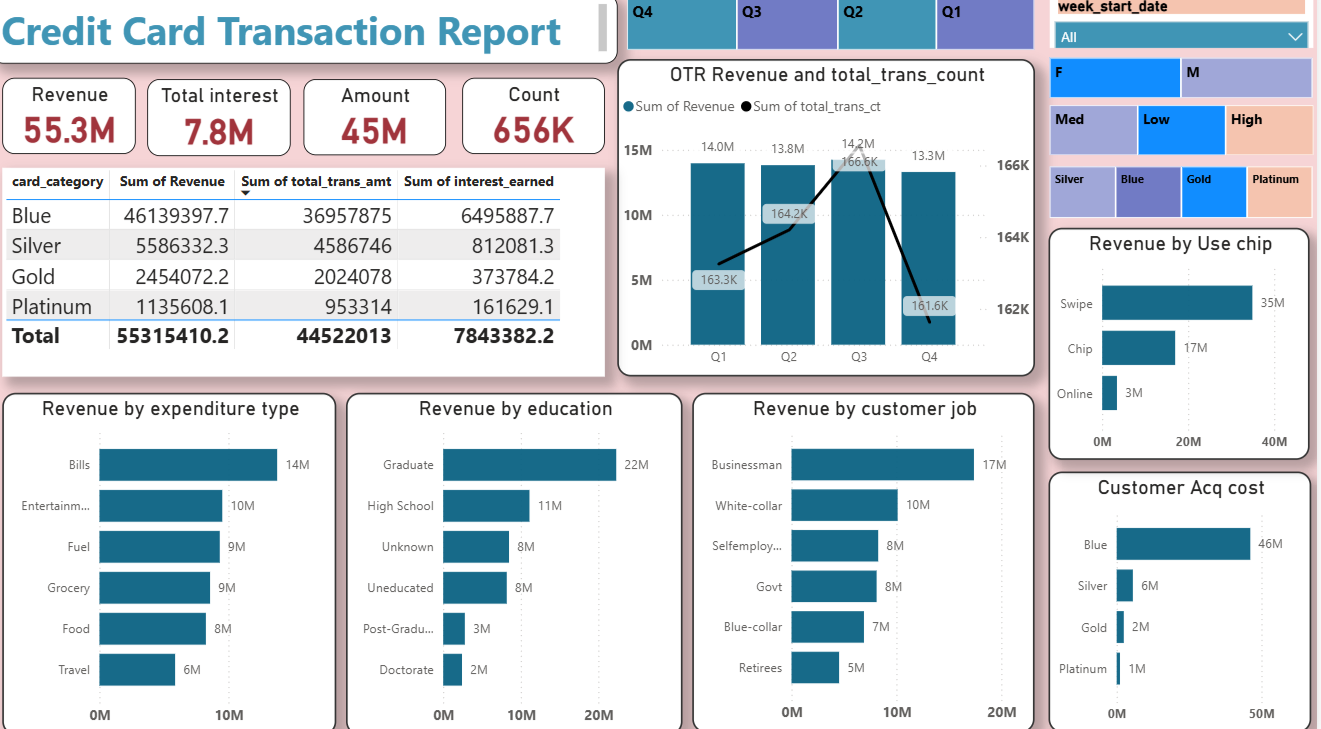

This screenshot's page, from the dashboard's own definition file:
{"tool":"powerbi","page":{"name":"CC_transactions ","canvas":[1280,720],"ordinal":0},"visuals":[{"type":"textbox","box":[0,4.8,604.4,67.6],"z":0},{"type":"lineStackedColumnComboChart","title":"OTR Revenue and  total_trans_count","fields":{"Category":["public cc_detail.qtr"],"Y":["Sum(public cc_detail.Revenue)"],"Y2":["Sum(public cc_detail.total_trans_ct)"]},"box":[604.4,67.6,403,306.4],"z":1000},{"type":"barChart","title":"Revenue by expenditure type","fields":{"Y":["Sum(public cc_detail.Revenue)"],"Category":["public cc_detail.exp_type"]},"box":[10.9,389.7,322.1,330.6],"z":2000},{"type":"barChart","title":"Revenue by education ","fields":{"Y":["Sum(public cc_detail.Revenue)"],"Category":["public cust_detail.education_level"]},"box":[342.6,389.7,324.5,330.6],"z":3000},{"type":"barChart","title":"Revenue by customer job","fields":{"Y":["Sum(public cc_detail.Revenue)"],"Category":["public cust_detail.customer_job"]},"box":[676.8,389.7,330.6,328.2],"z":4000},{"type":"barChart","title":"Customer Acq cost","fields":{"Y":["Sum(public cc_detail.Revenue)"],"Category":["public cc_detail.card_category"]},"box":[1020.6,465.7,253.4,252.1],"z":5000},{"type":"barChart","title":"Revenue by Use chip","fields":{"Y":["Sum(public cc_detail.Revenue)"],"Category":["public cc_detail.use_chip"]},"box":[1020.6,230.4,252.1,224.4],"z":6000},{"type":"card","title":"Revenue ","fields":{"Values":["Sum(public cc_detail.Revenue)"]},"box":[10.9,85.7,129.1,73.6],"z":7000},{"type":"card","title":"Count","fields":{"Values":["Sum(public cc_detail.total_trans_ct)"]},"box":[454.8,85.7,137.5,73.6],"z":8000},{"type":"card","title":"Amount","fields":{"Values":["Sum(public cc_detail.total_trans_amt)"]},"box":[301.6,86.9,137.5,73.6],"z":9000},{"type":"card","title":"Total interest ","fields":{"Values":["Sum(public cc_detail.interest_earned)"]},"box":[150.8,86.9,138.7,74.8],"z":10000},{"type":"slicer","fields":{"Values":["public cc_detail.week_start_date"]},"box":[1021.9,7,254.6,49.5],"z":11000},{"type":"treemap","fields":{"Group":["public cc_detail.qtr"],"Values":["Avg(public cc_detail.client_num)"]},"box":[614.2,7.3,392.8,51.3],"z":12000},{"type":"treemap","fields":{"Group":["public cust_detail.gender"],"Values":["Avg(public cc_detail.client_num)"]},"box":[1021.9,66.4,253.4,38.6],"z":13000},{"type":"treemap","fields":{"Group":["public cc_detail.card_category"],"Values":["Avg(public cc_detail.client_num)"]},"box":[1021.9,171.3,253.4,49.5],"z":14000},{"type":"treemap","fields":{"Group":["public cust_detail.IncomeGroup"],"Values":["Avg(public cc_detail.client_num)"]},"box":[1021.9,112.2,254.6,48.3],"z":15000},{"type":"tableEx","fields":{"Values":["public cc_detail.card_category","Sum(public cc_detail.Revenue)","Sum(public cc_detail.total_trans_amt)","Sum(public cc_detail.interest_earned)"]},"box":[10.9,172.5,581.5,201.5],"z":16000}]}

Visuals, with their boxes in screenshot pixels (x1, y1, x2, y2), scaled from the page's 1280x720 canvas onto the 1321x729 screenshot:
textbox: {"x1": 0, "y1": 5, "x2": 624, "y2": 73}
"OTR Revenue and  total_trans_count" lineStackedColumnComboChart: {"x1": 624, "y1": 68, "x2": 1040, "y2": 379}
"Revenue by expenditure type" barChart: {"x1": 11, "y1": 395, "x2": 344, "y2": 728}
"Revenue by education " barChart: {"x1": 354, "y1": 395, "x2": 688, "y2": 728}
"Revenue by customer job" barChart: {"x1": 698, "y1": 395, "x2": 1040, "y2": 727}
"Customer Acq cost" barChart: {"x1": 1053, "y1": 472, "x2": 1315, "y2": 727}
"Revenue by Use chip" barChart: {"x1": 1053, "y1": 233, "x2": 1313, "y2": 460}
"Revenue " card: {"x1": 11, "y1": 87, "x2": 144, "y2": 161}
"Count" card: {"x1": 469, "y1": 87, "x2": 611, "y2": 161}
"Amount" card: {"x1": 311, "y1": 88, "x2": 453, "y2": 163}
"Total interest " card: {"x1": 156, "y1": 88, "x2": 299, "y2": 164}
slicer - public cc_detail.week_start_date: {"x1": 1055, "y1": 7, "x2": 1317, "y2": 57}
treemap - public cc_detail.qtr x Avg(public cc_detail.client_num): {"x1": 634, "y1": 7, "x2": 1039, "y2": 59}
treemap - public cust_detail.gender x Avg(public cc_detail.client_num): {"x1": 1055, "y1": 67, "x2": 1316, "y2": 106}
treemap - public cc_detail.card_category x Avg(public cc_detail.client_num): {"x1": 1055, "y1": 173, "x2": 1316, "y2": 224}
treemap - public cust_detail.IncomeGroup x Avg(public cc_detail.client_num): {"x1": 1055, "y1": 114, "x2": 1317, "y2": 163}
tableEx - public cc_detail.card_category x Sum(public cc_detail.Revenue): {"x1": 11, "y1": 175, "x2": 611, "y2": 379}
